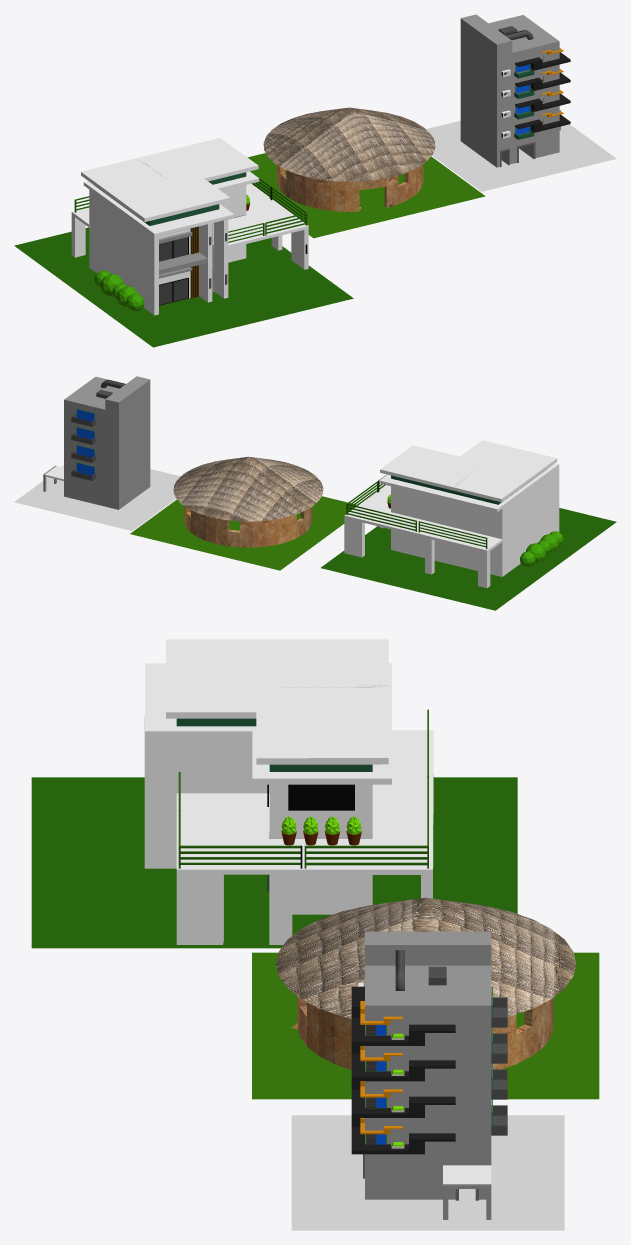
The model's file is huts bungalow.gltf.
3 renders of one model, top to bottom at view 1: azimuth 30°, elevation 25°; view 2: azimuth 150°, elevation 25°; view 3: azimuth 270°, elevation 25°, orthographic. The views are drawn at different scales.
Parts seen in each view (by area): view 1: Cube.021, Cube, Cone; view 2: Cube.021, Cone, Cube; view 3: Cube.021, Cube, Cone.
Part boxes in pixels (x1,y1,x2,y2): Cube.021: (14, 138, 353, 347); Cube: (426, 14, 616, 191); Cone: (247, 107, 485, 238); Cube.021: (321, 440, 616, 610); Cone: (130, 456, 356, 570); Cube: (14, 376, 180, 530); Cube.021: (31, 639, 517, 948); Cube: (291, 931, 564, 1230); Cone: (252, 897, 599, 1099).
Size of the model in its own units: 240 by 55.83 by 125.
Materials: 36 (3 with a texture image).
